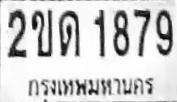1: (92, 9, 105, 57)
2: (6, 9, 26, 58)
7: (133, 8, 150, 56)
8: (112, 9, 129, 56)
9: (155, 9, 172, 55)
A02: (31, 8, 52, 56)
A20: (58, 9, 80, 56)
BKK: (25, 74, 157, 102)
